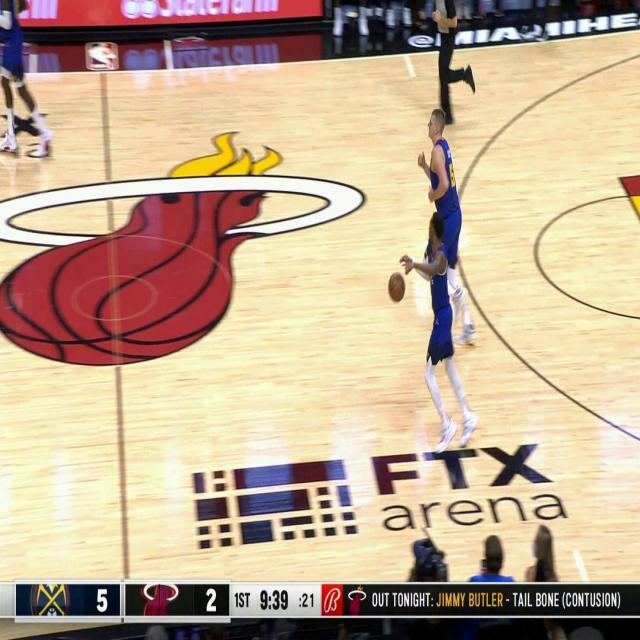rim: (388, 272, 407, 302)
